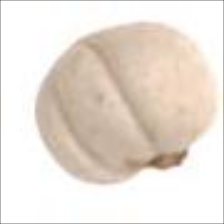L5: (49, 38, 155, 173), (135, 139, 194, 173), (54, 31, 112, 56)
L6: (30, 18, 221, 188)
